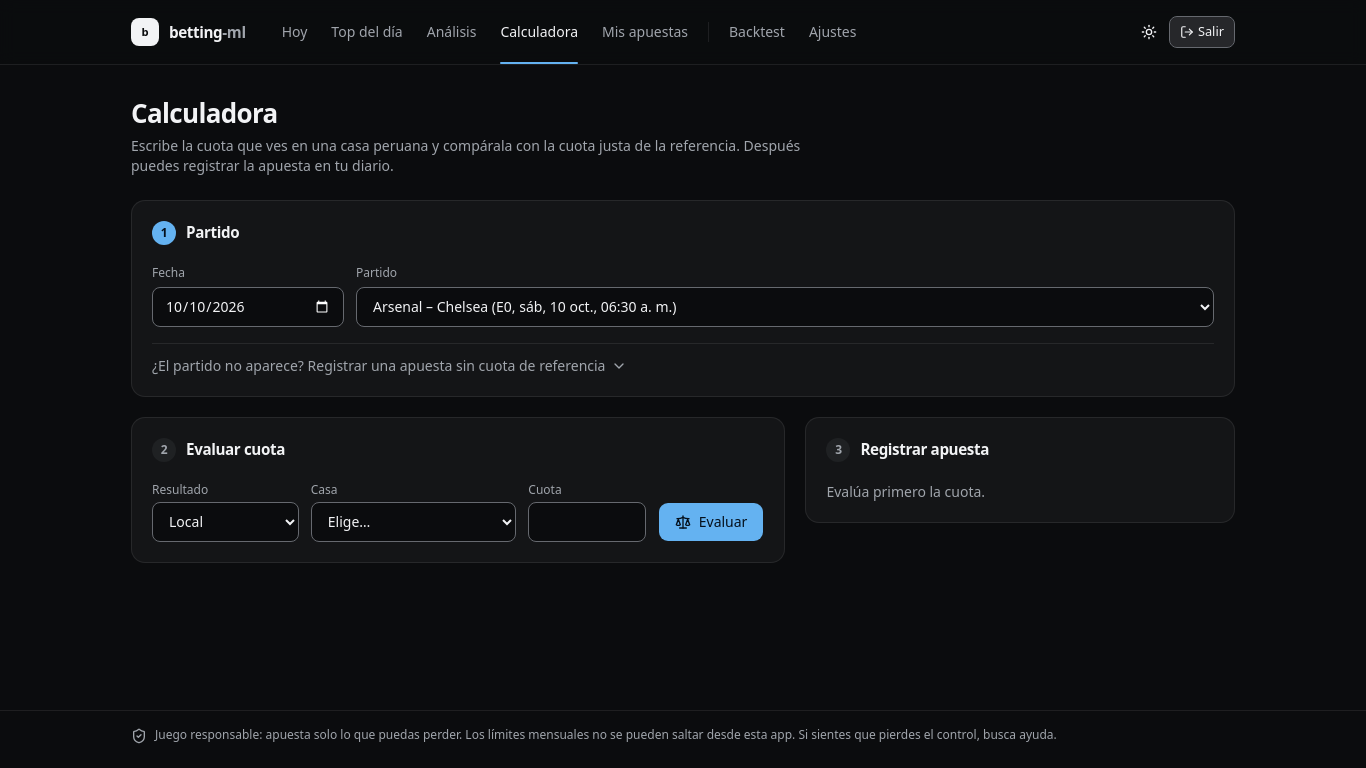
Test: 409 asks for explicit confirmation and resends with confirm: true
The width and height of the screenshot is (1366, 768).
Select "Visita" in the dropdown labelled "Resultado" at (225, 522), box [152,502,299,542]
Select "Te Apuesto" in the dropdown labelled "Casa" at (414, 522), box [311,502,516,542]
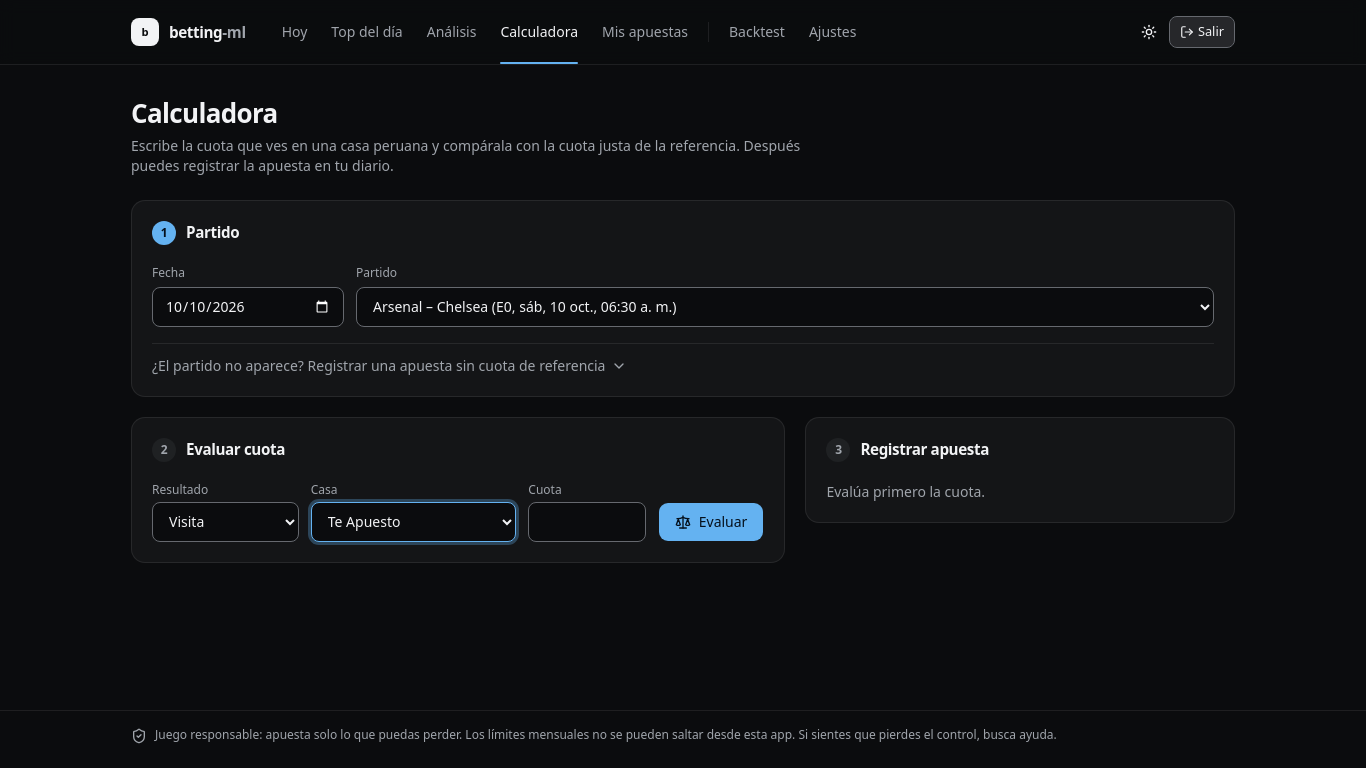
Type "4.4" into the field labelled "Cuota".
click(587, 522); type("4.4")  # box [528,502,646,542]
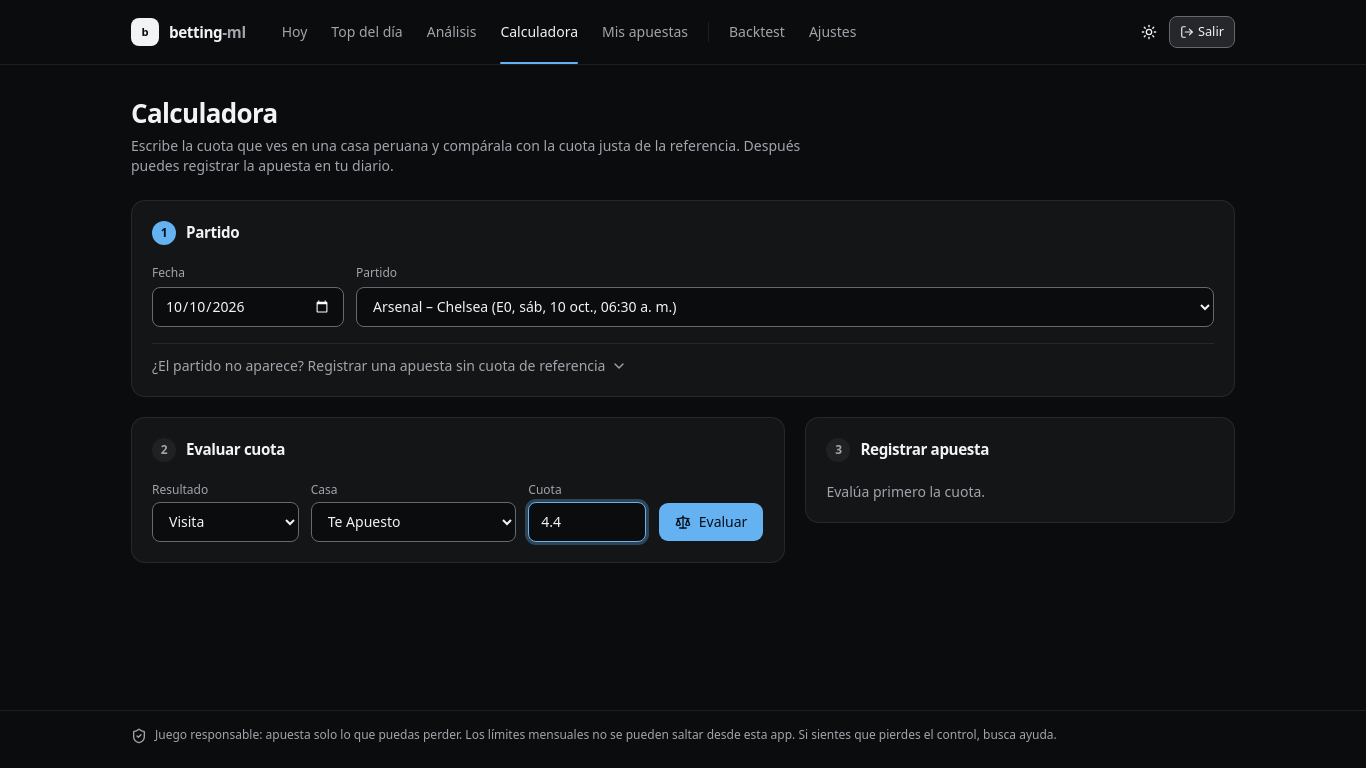
Click the button "Evaluar".
click(711, 522)  # box [658,502,764,542]
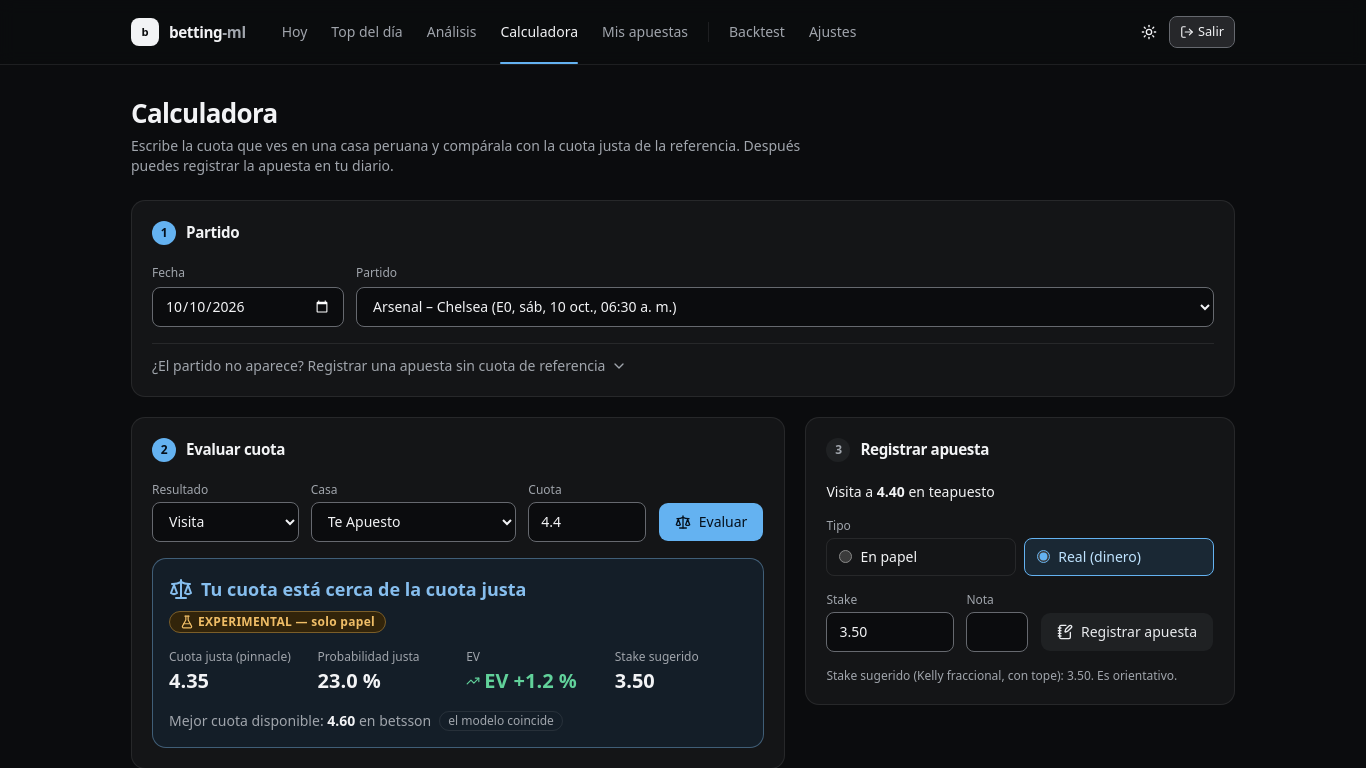
Replace the text in the field labelled "Stake" with "25" at (890, 632), box [826,612,954,652]
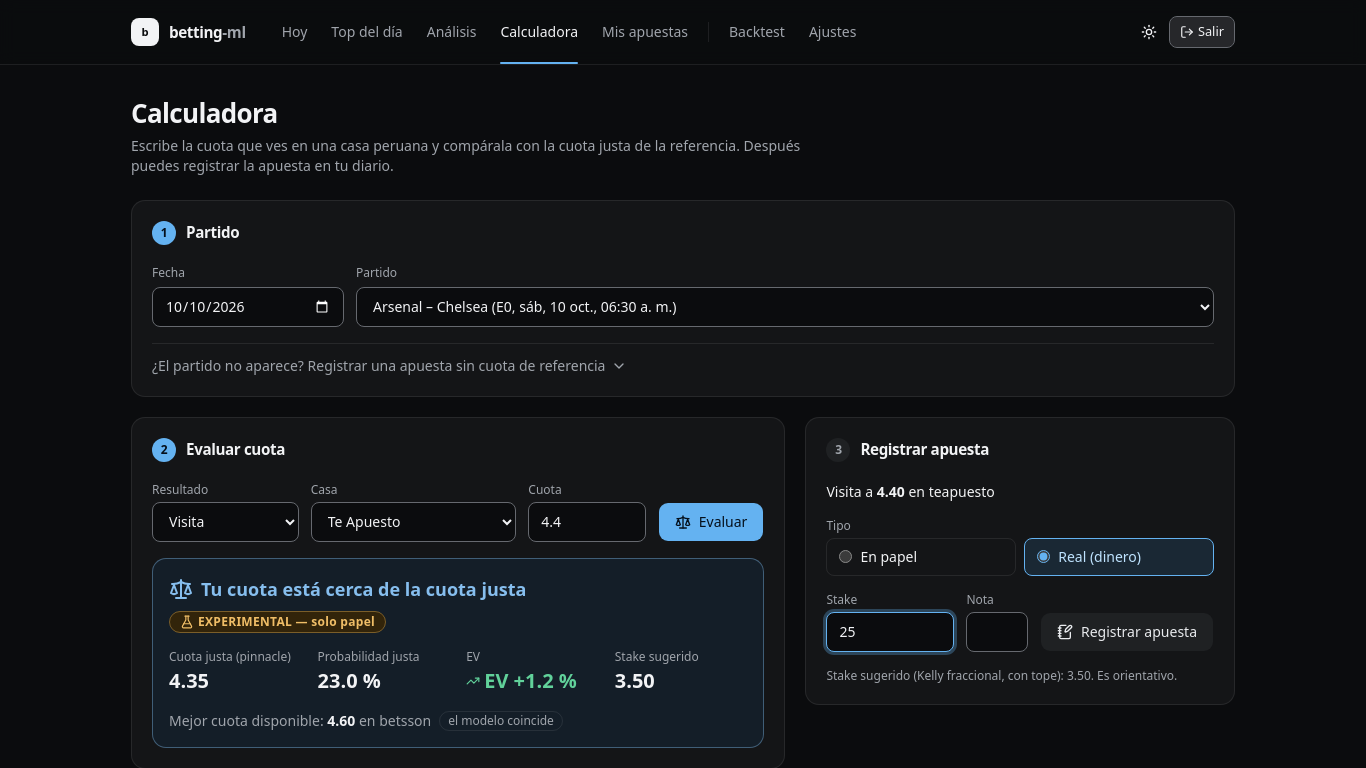
Click the button "Registrar apuesta".
click(1127, 632)  # box [1040,612,1214,652]
(page scrolled)
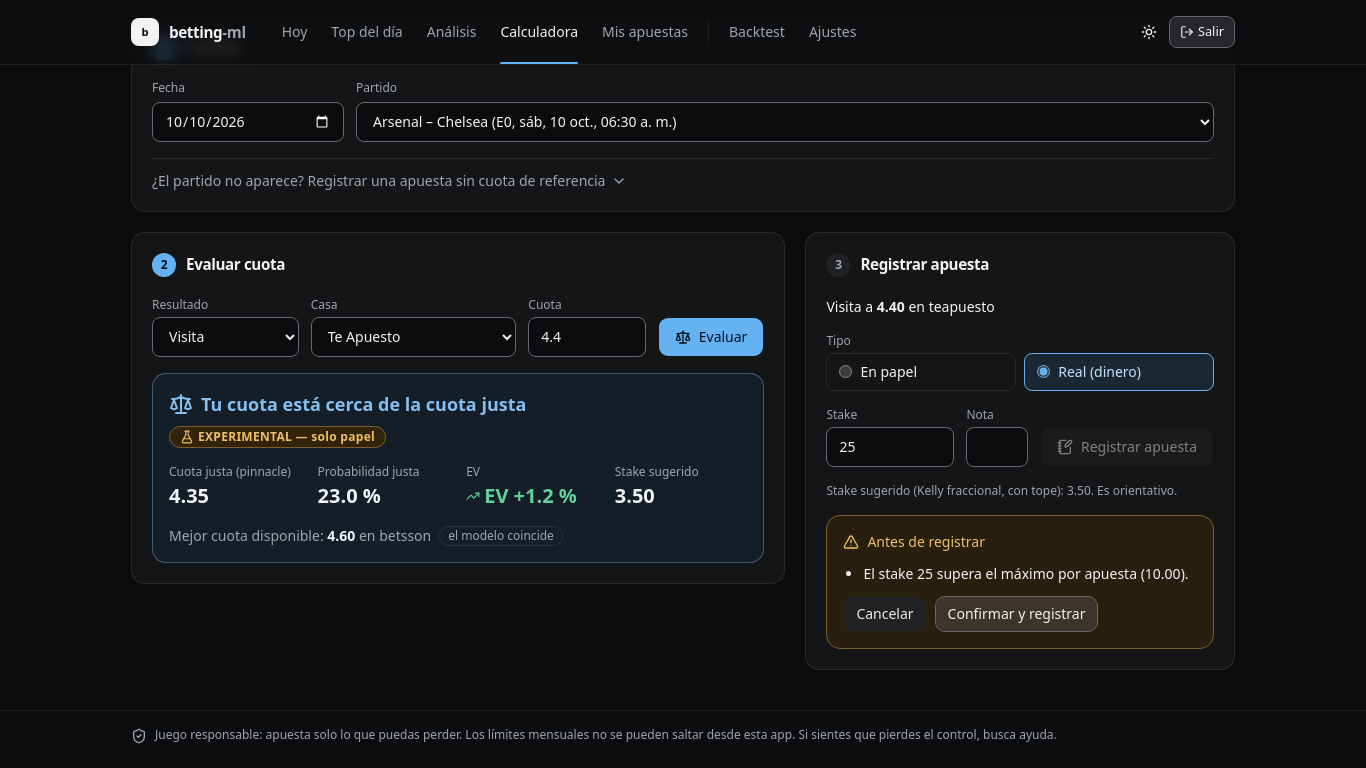
Expected: the dialog named "Confirmación" shows "supera el máximo por apuesta", [863,564,1189,582]
Click the button "Confirmar y registrar".
click(1016, 614)  # box [935,596,1098,632]
(page scrolled)
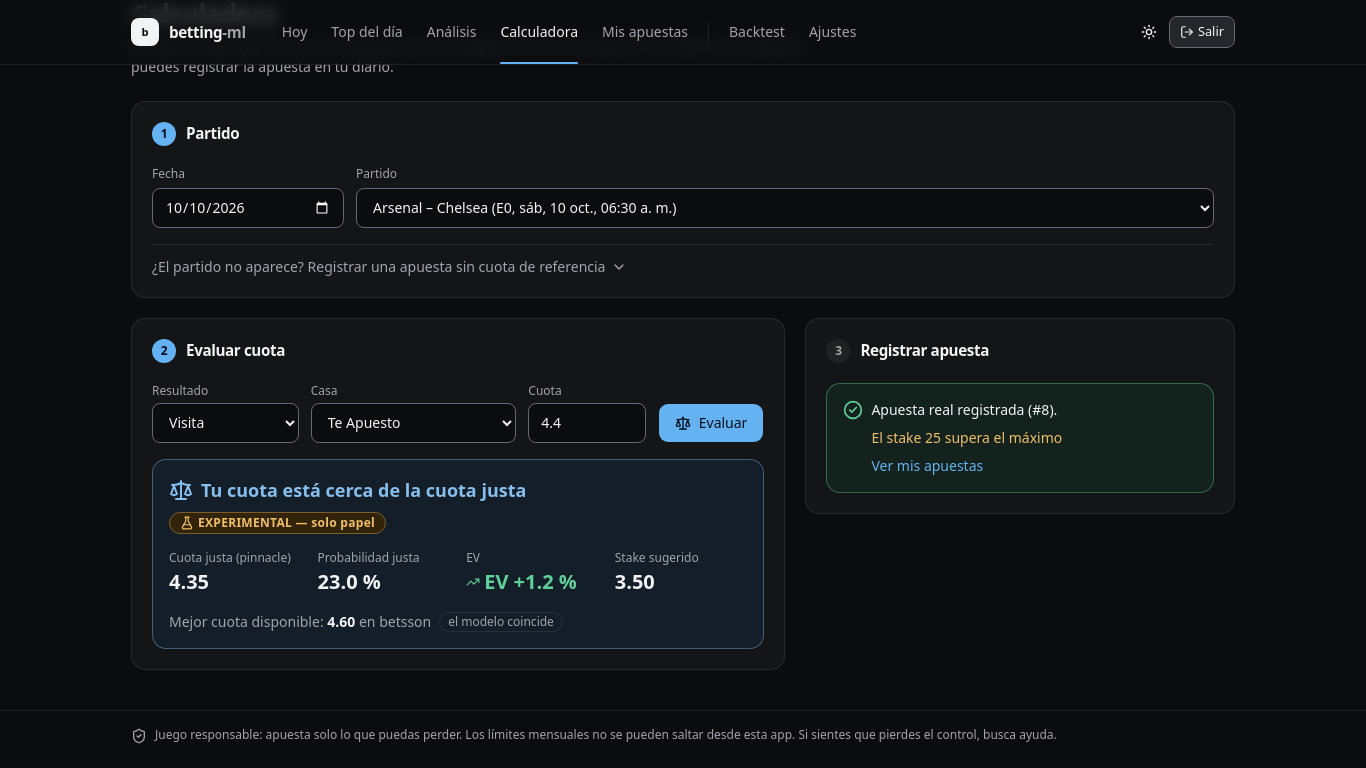
Expected: the text "Apuesta real registrada (#8)." is shown, [843,400,1057,420]
